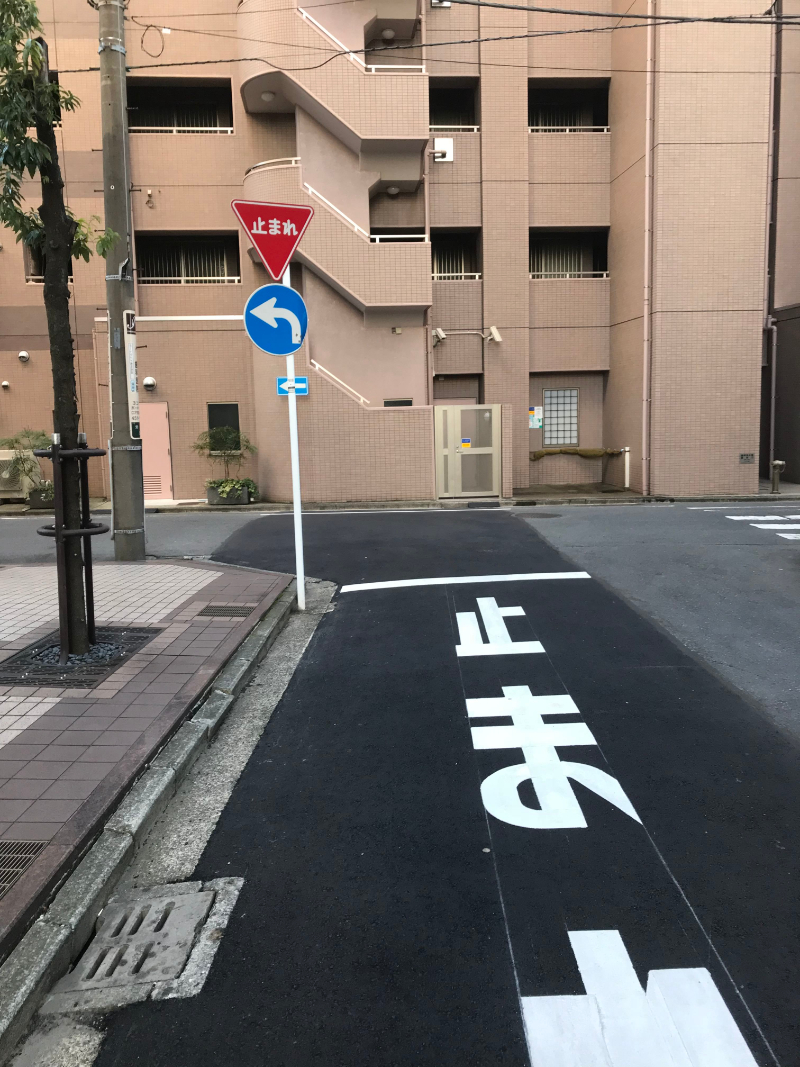STOP: (227, 196, 315, 282)
